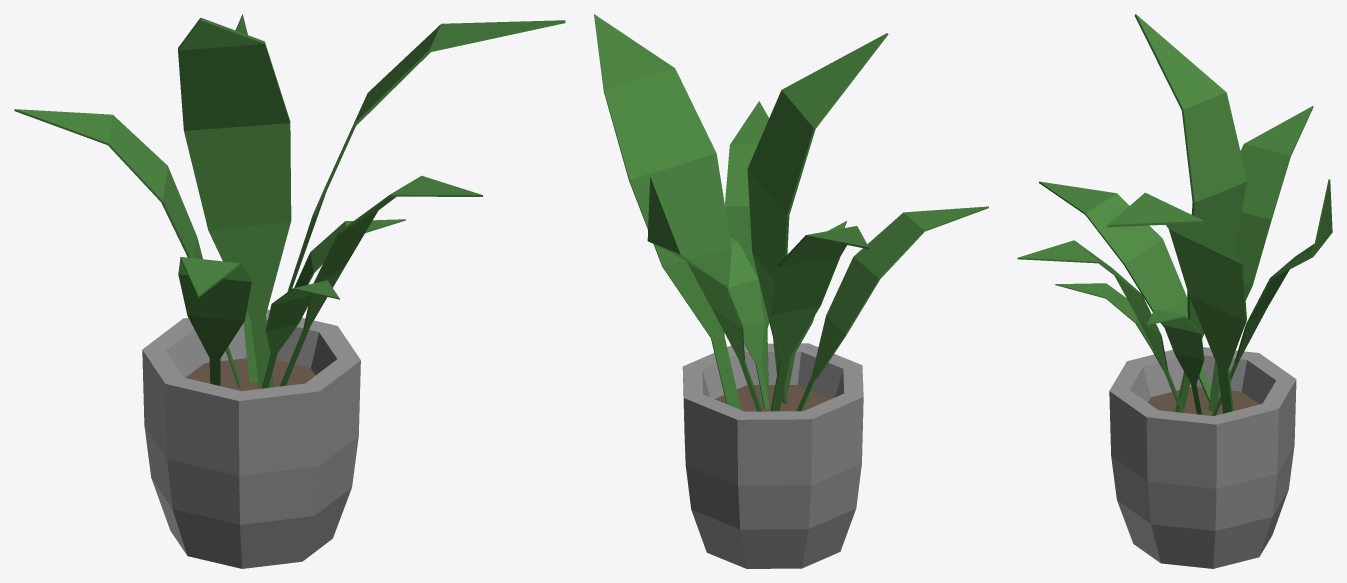
The model's file is Flower_14.fbx.
The picture shows the model from 3 angles, left to right: view 1: azimuth 30°, elevation 25°; view 2: azimuth 150°, elevation 25°; view 3: azimuth 270°, elevation 25°; orthographic projection. The views are drawn at different scales.
Parts seen in each view (by area): view 1: Flower_14; view 2: Flower_14; view 3: Flower_14.
Part boxes in pixels (x1,y1,x2,y2): Flower_14: [14, 14, 565, 568]; Flower_14: [594, 14, 988, 568]; Flower_14: [1017, 14, 1332, 568].
Size of the model in its own units: 128 by 94.67 by 162.
